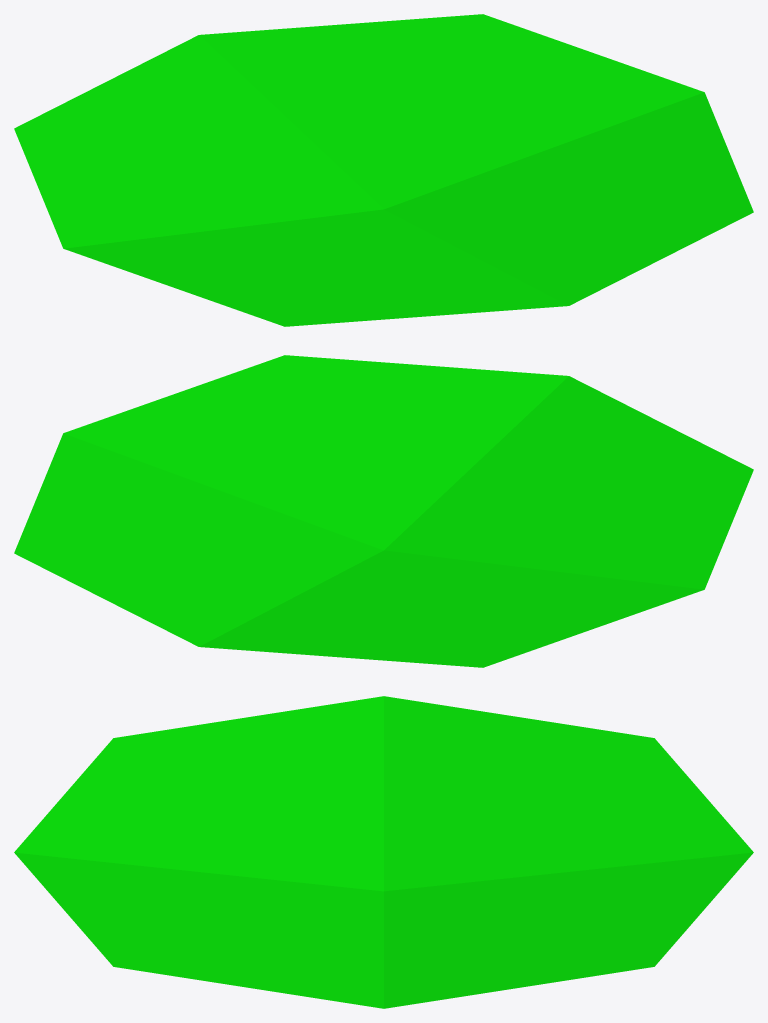
The model's file is SM_Flower_Var9.fbx.
The picture shows the model from 3 angles, top to bottom: view 1: azimuth 30°, elevation 25°; view 2: azimuth 150°, elevation 25°; view 3: azimuth 270°, elevation 25°; orthographic projection.
Parts seen in each view (by area): view 1: SM_Flower_Var9; view 2: SM_Flower_Var9; view 3: SM_Flower_Var9.
Boxes of the visible parts, x1,y1,x2,y2 form: SM_Flower_Var9: (14, 14, 753, 326); SM_Flower_Var9: (14, 355, 753, 667); SM_Flower_Var9: (14, 696, 753, 1008).
Size of the model in its own units: 70 by 4.06 by 70.
